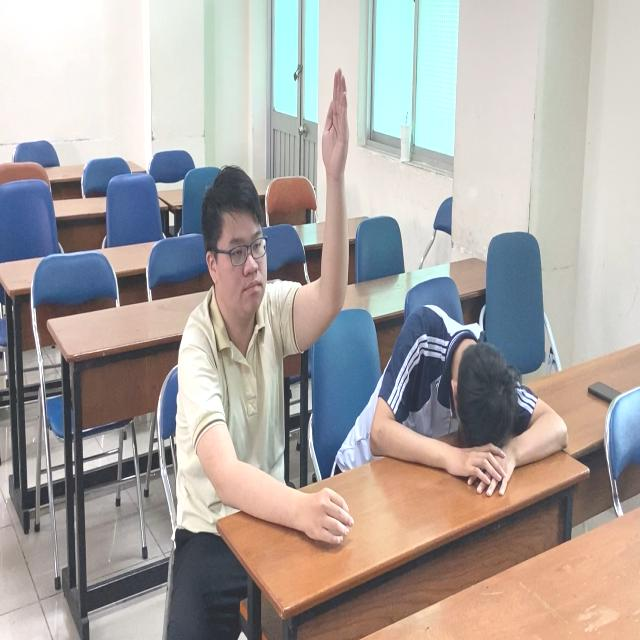raise_hand: (175, 59, 359, 546)
sleep: (351, 292, 568, 468)
